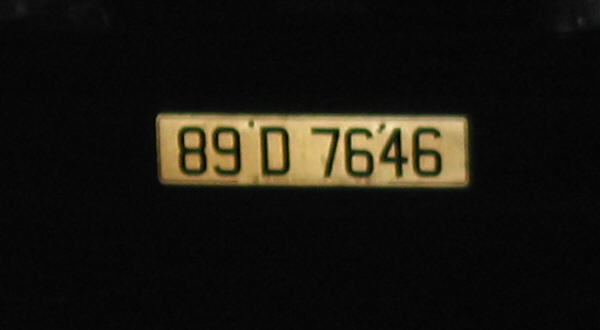license_plate: (156, 112, 471, 189)
